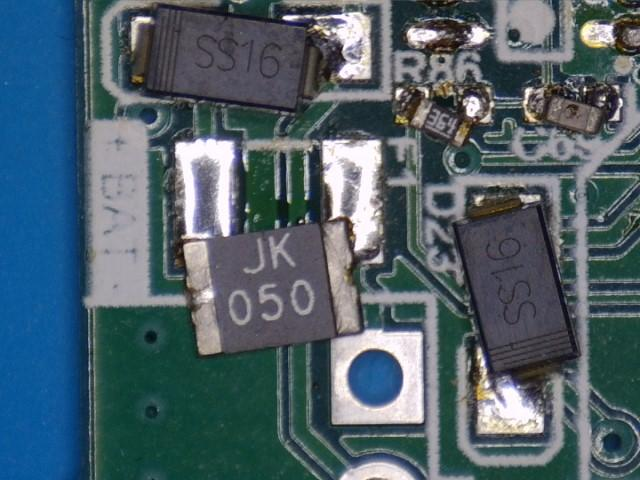Incorrect_installation: (172, 138, 387, 360), (451, 194, 583, 440), (124, 4, 380, 115), (392, 83, 497, 151), (523, 84, 623, 137)
Short_circuit: (318, 137, 427, 427)
